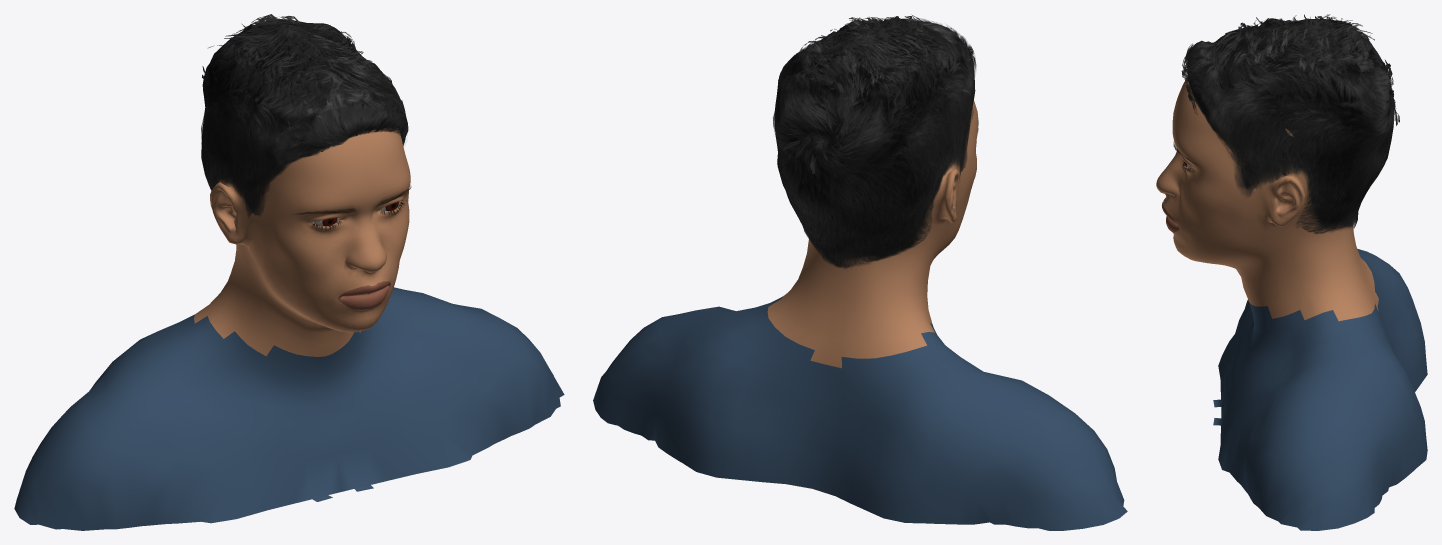
File: pilot-man.glb
The picture shows the model from 3 angles, left to right: view 1: azimuth 30°, elevation 25°; view 2: azimuth 150°, elevation 25°; view 3: azimuth 270°, elevation 25°; orthographic projection. The views are drawn at different scales.
Parts seen in each view (by area): view 1: mpfb-face, mpfb-face.short01; view 2: mpfb-face, mpfb-face.short01; view 3: mpfb-face, mpfb-face.short01.
Part boxes in pixels (box(x1,y1,x2,y2)): mpfb-face: box(14, 101, 564, 530); mpfb-face.short01: box(201, 14, 408, 219); mpfb-face: box(593, 100, 1127, 530); mpfb-face.short01: box(773, 14, 976, 268); mpfb-face: box(1156, 78, 1427, 530); mpfb-face.short01: box(1181, 14, 1399, 233).
Bounding box in the file's own units: 0.5177 × 0.3966 × 0.2507.
Materials: 9 (6 with a texture image).
